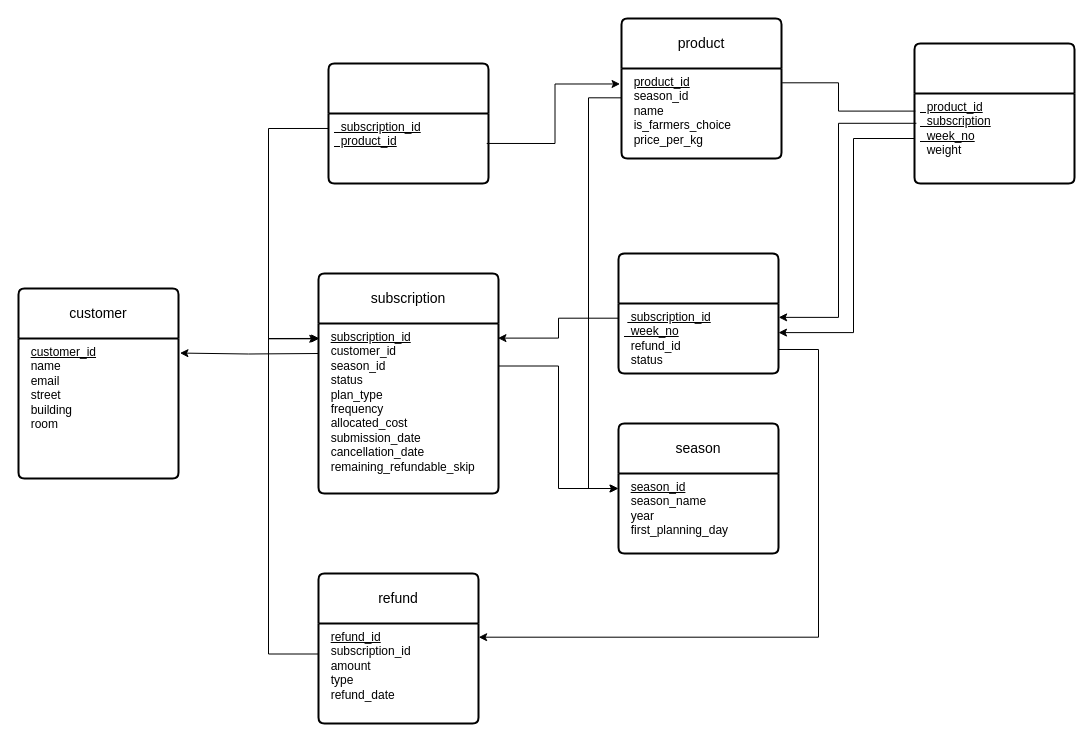
The diagram is 1092 pixels wide and 741 high, and some of its shapes have lost their labels. Each missing label, with the box of its shape:
add_on: (913, 42, 1075, 184)
chosen_products: (327, 62, 489, 184)
delivery: (617, 252, 779, 374)
